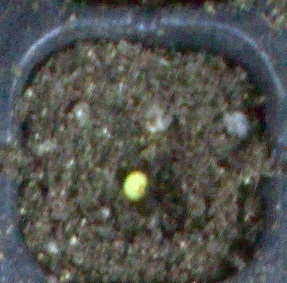chilli seed: (121, 170, 150, 202)
